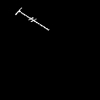treble_crochet: (16, 10, 46, 28)
